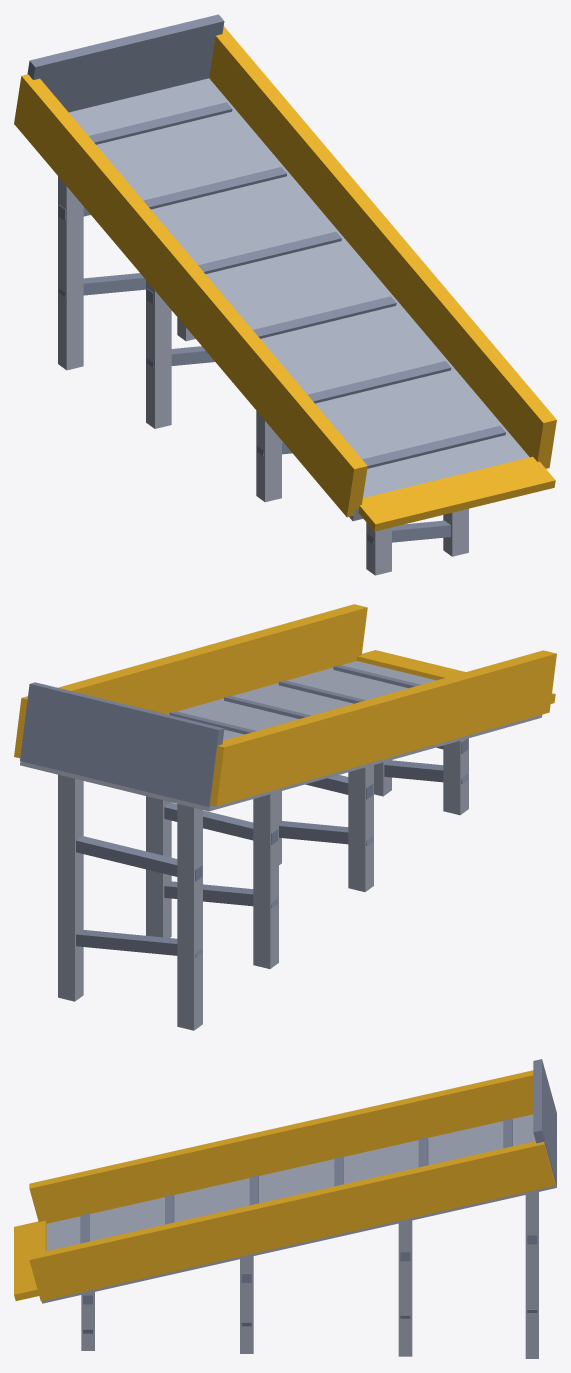
Rendered from slide.glb.
The picture shows the model from 3 angles, top to bottom: view 1: azimuth 30°, elevation 25°; view 2: azimuth 150°, elevation 25°; view 3: azimuth 270°, elevation 25°; orthographic projection. The views are drawn at different scales.
Visible parts, largest first — view 1: slide; view 2: slide; view 3: slide.
Boxes of the visible parts, bbox=[...] form: slide: bbox=[14, 14, 556, 575]; slide: bbox=[14, 604, 556, 1030]; slide: bbox=[14, 1059, 556, 1358].
Bounding box in the file's own units: 1 × 1.45 × 3.
